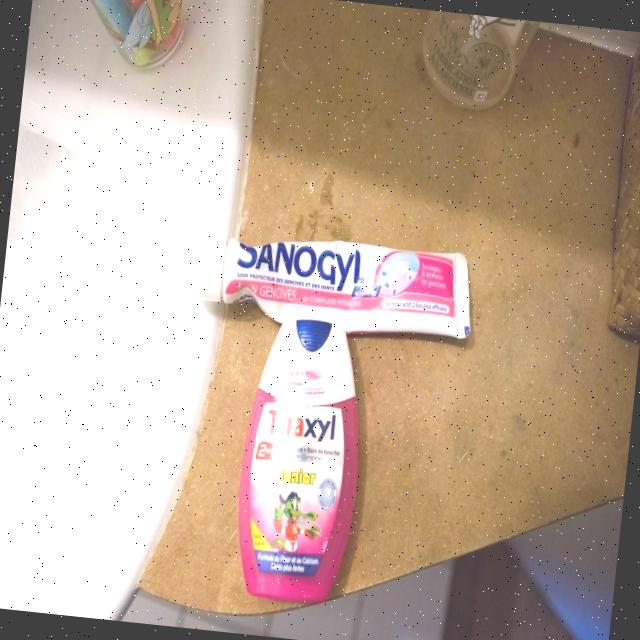Toothpaste: (219, 302, 383, 624), (178, 214, 488, 346)
